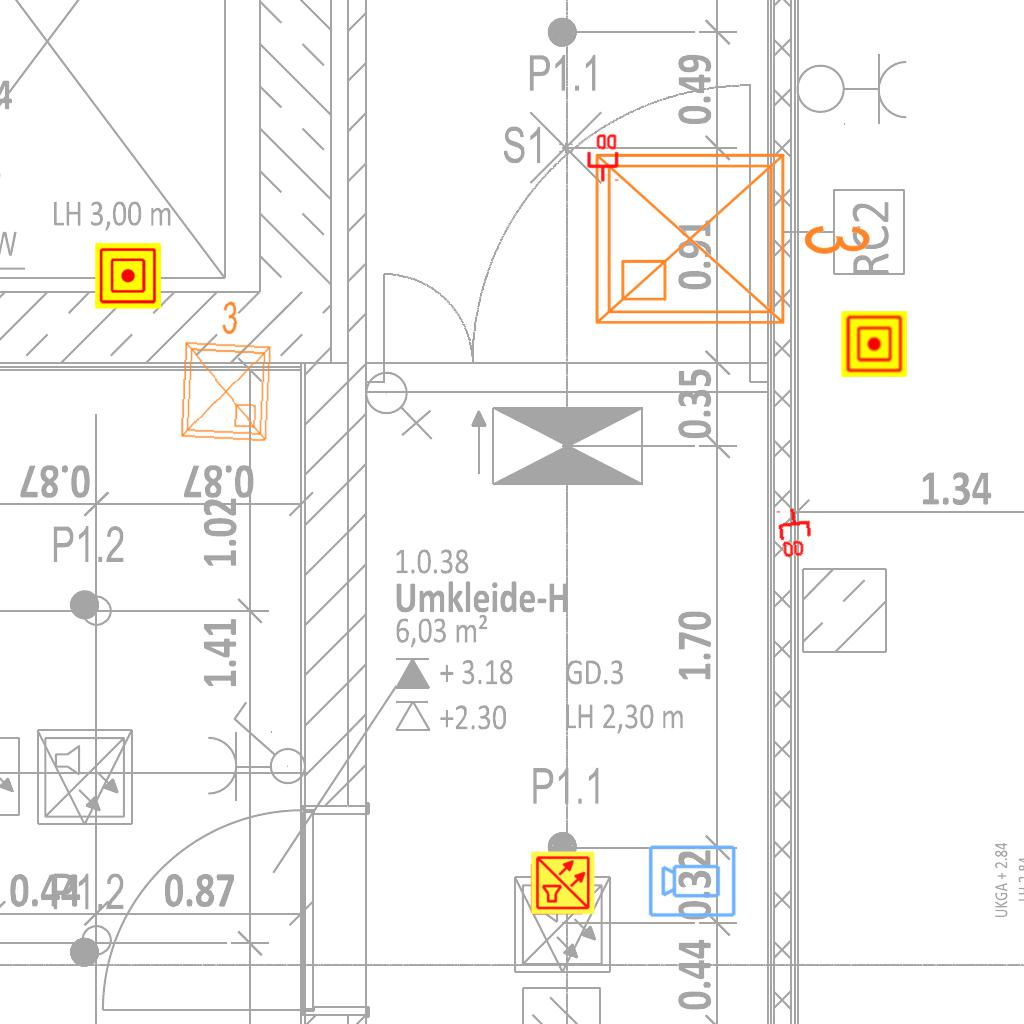Datenanschluss_zweifach: (776, 505, 816, 560), (585, 132, 619, 183)
Einbaudownlights_LED_Konferenzraeume: (581, 131, 881, 339), (169, 293, 281, 449)
KFO_Kamera_mit_Festobjektiv: (647, 842, 738, 919)
NAM-Nichtautomatischer_Melder: (95, 243, 161, 309), (841, 311, 907, 377)
OKW_Multisensormelder_(Kombination_optischer_Rauch-Kahlenmonoxid_Waerme-Melder): (530, 850, 596, 916)
